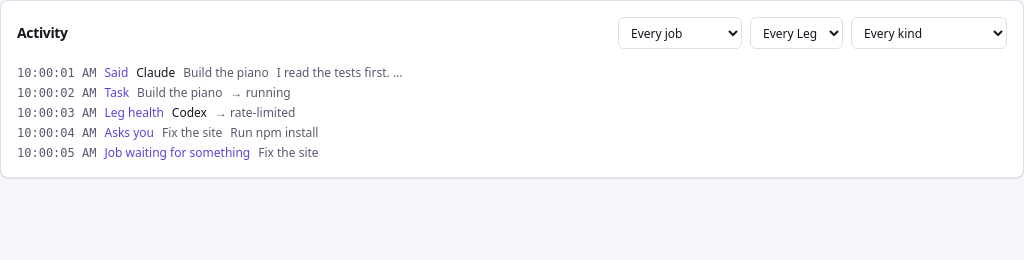
Scenario: the Activity card › condenses a Leg's output to a line that opens to all of it
Click the text "I read the tests first. …": (340, 72) [277,64,402,81]
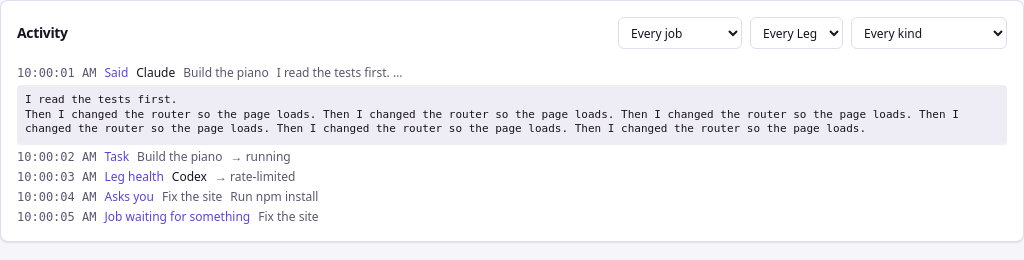
Expected: the element with test id "activity-line" shows "Then I changed the router", [25,93,965,135]
